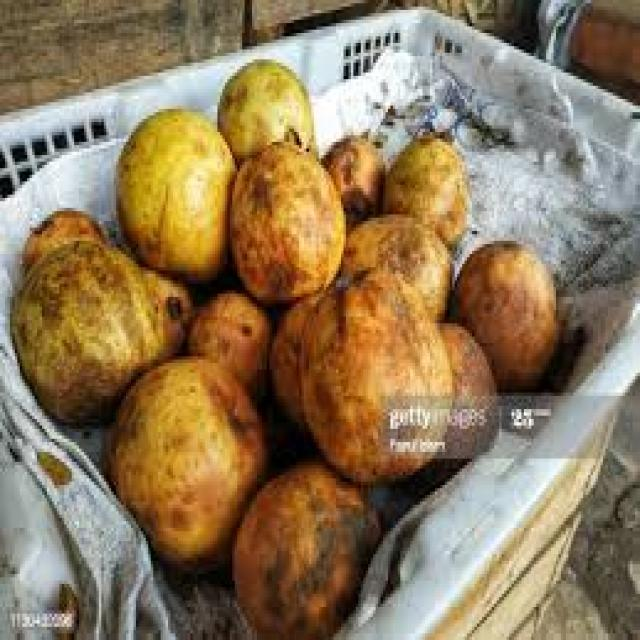organic waste: (99, 353, 267, 571), (7, 234, 188, 416), (296, 267, 449, 475), (228, 452, 380, 637), (111, 106, 235, 280), (225, 138, 341, 297), (450, 238, 558, 392), (402, 316, 497, 482), (341, 214, 450, 317), (212, 56, 316, 162), (383, 132, 467, 247), (183, 284, 267, 396), (20, 208, 101, 264), (358, 478, 413, 522)
